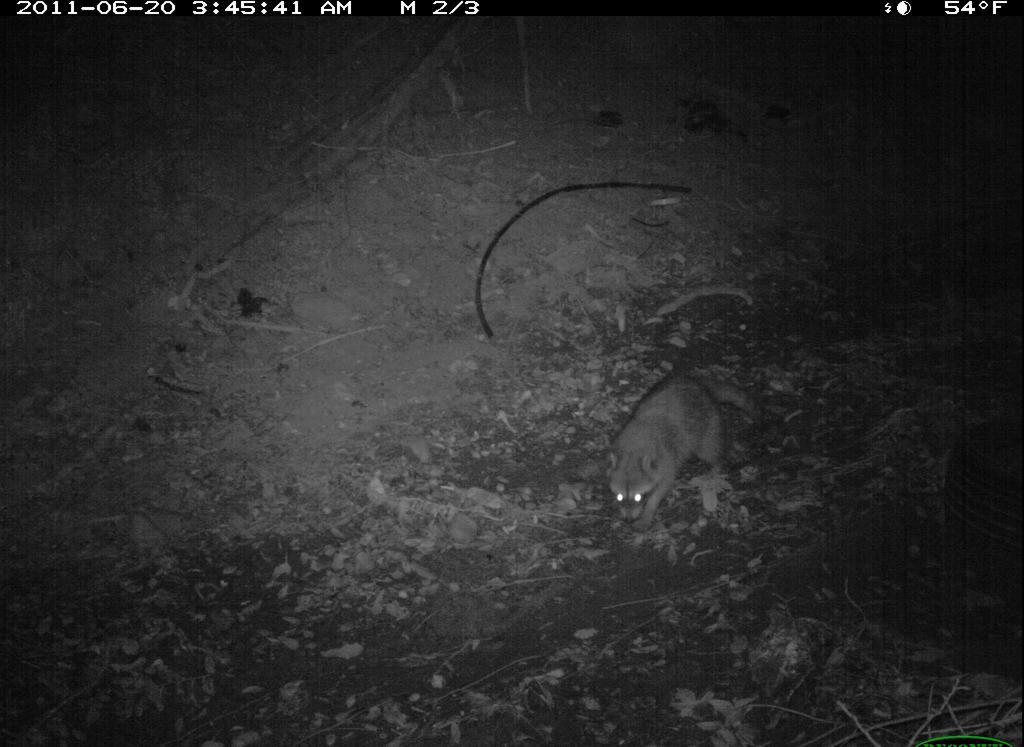raccoon: (573, 356, 794, 564)
